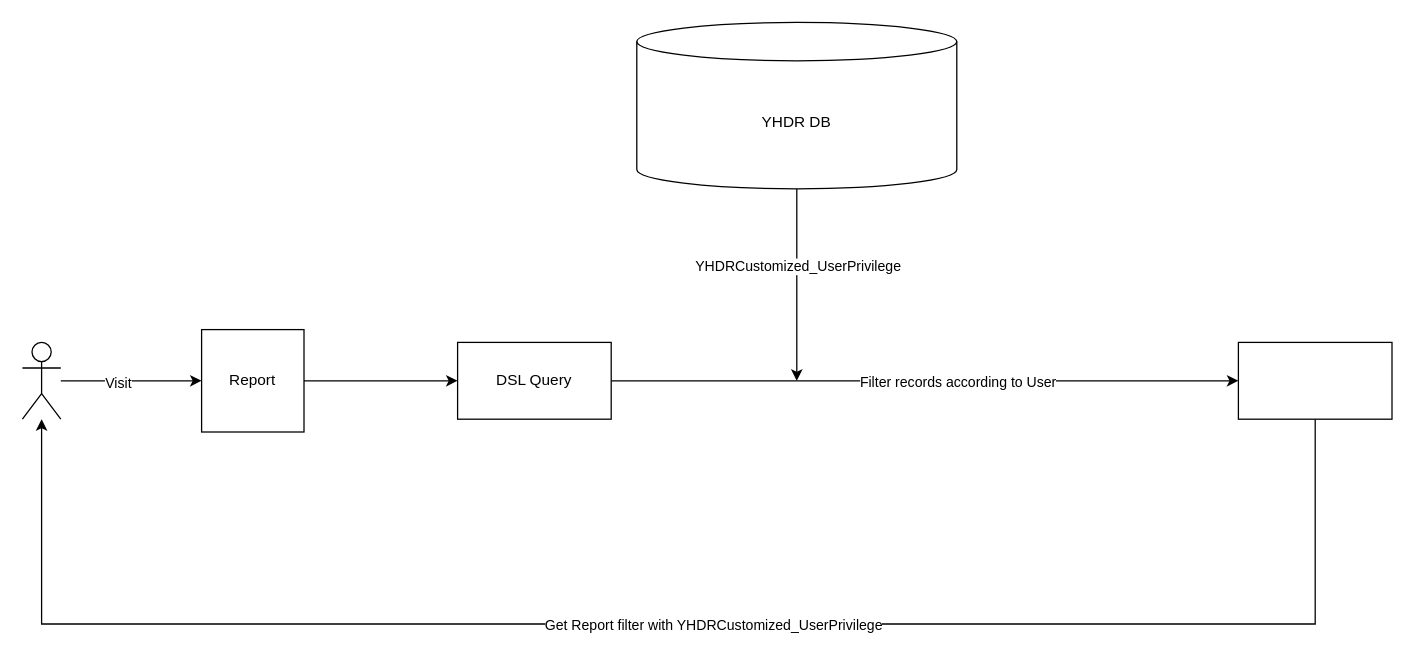
The diagram is 1414 pixels wide and 657 high, and some of its shapes have lost their labels. Here are the shapes that lost their labels. From the top down, the centre of each, then its label:
At [41,380]: "Actor".
At [1314,380]: "New Report".
